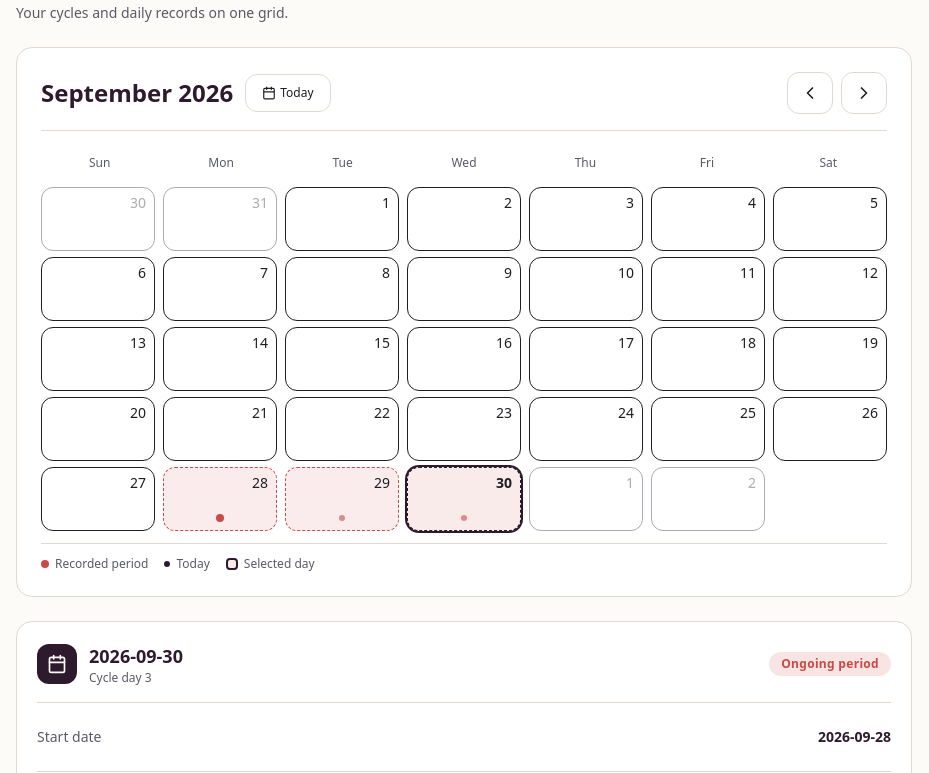
Scenario: CalendarView UI › follows the selection to a day with no records
The width and height of the screenshot is (929, 773).
Click the cell "21": x=220, y=429 [163,397,277,461]
(page scrolled)
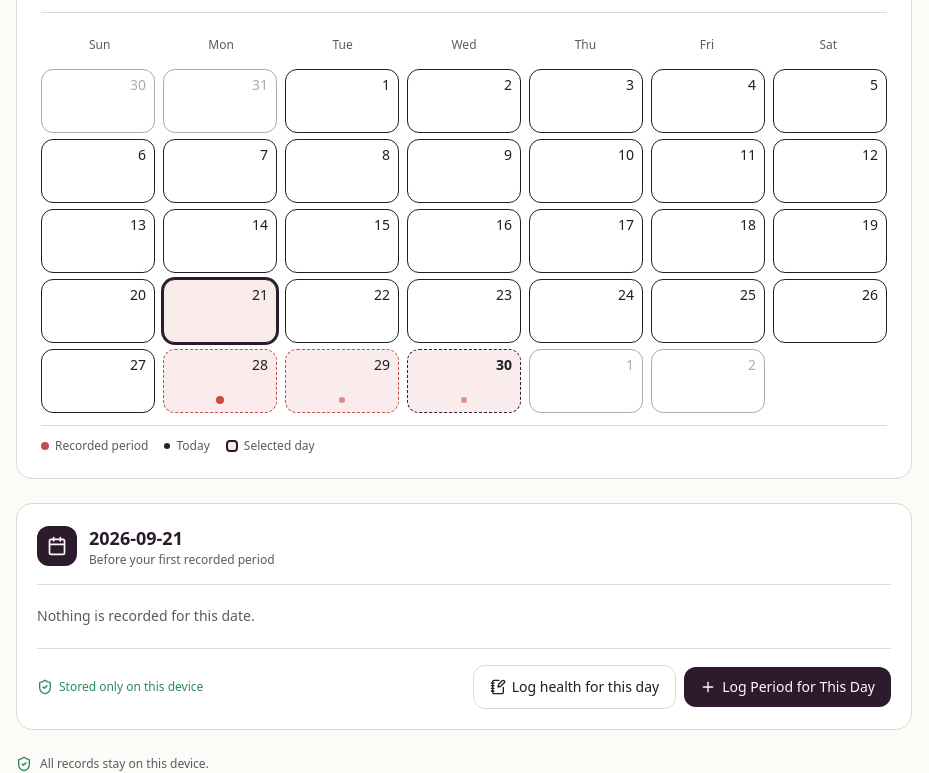
Check: the text "Before your first recorded period" is shown, box [89,552,274,568]
Check: the text "Nothing is recorded for this date." is shown, box [37,606,255,625]
